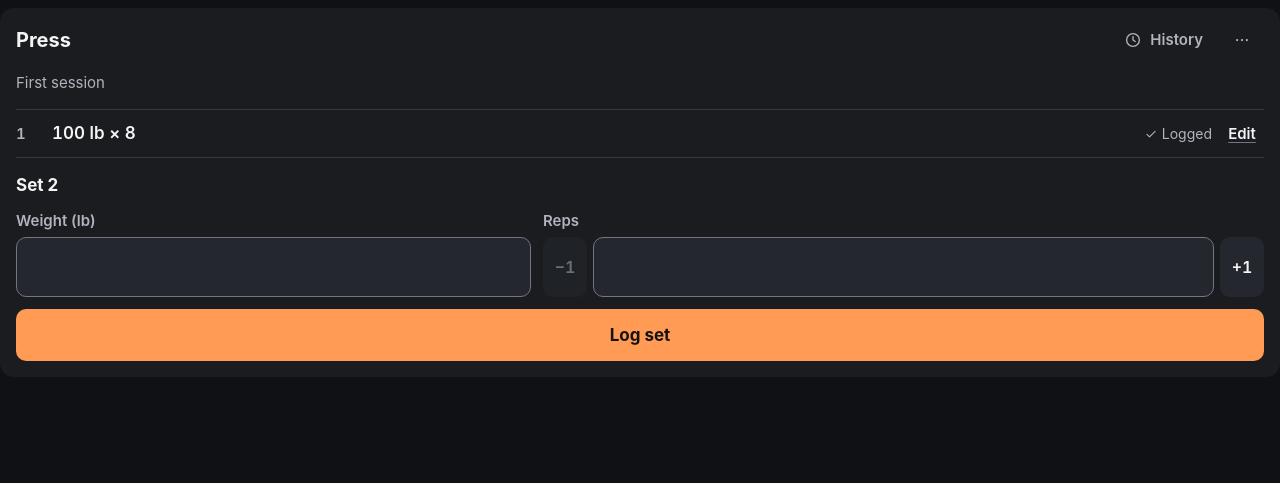
Test: WorkoutExercise saving › keeps invalid correction input blocked until the user cancels or supplies a valid value
Step 1. Click the button with aria-label "Edit set 1 for Press" → (1242, 134), box [1220,112,1264,156]
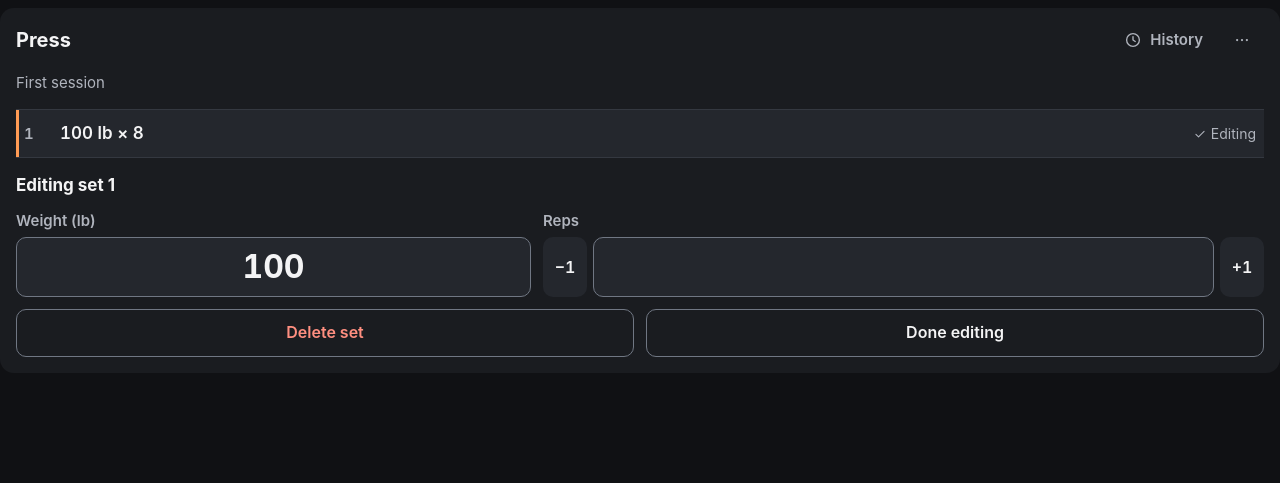
Step 2. Clear the field labelled "Reps" → (904, 267), box [593,237,1214,297]
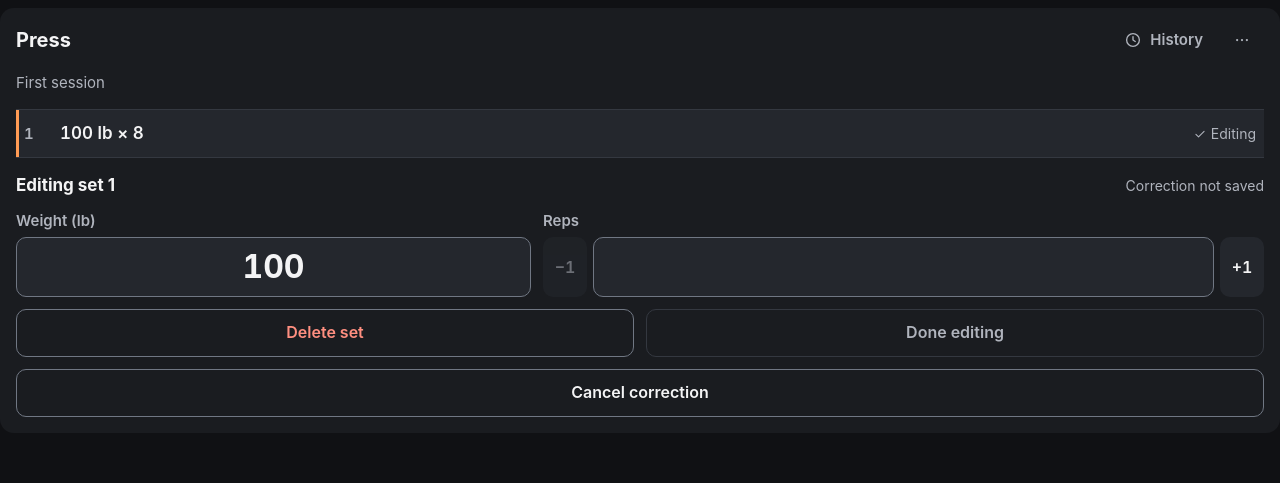
Step 3. Leave the field labelled "Reps", box [593,237,1214,297]
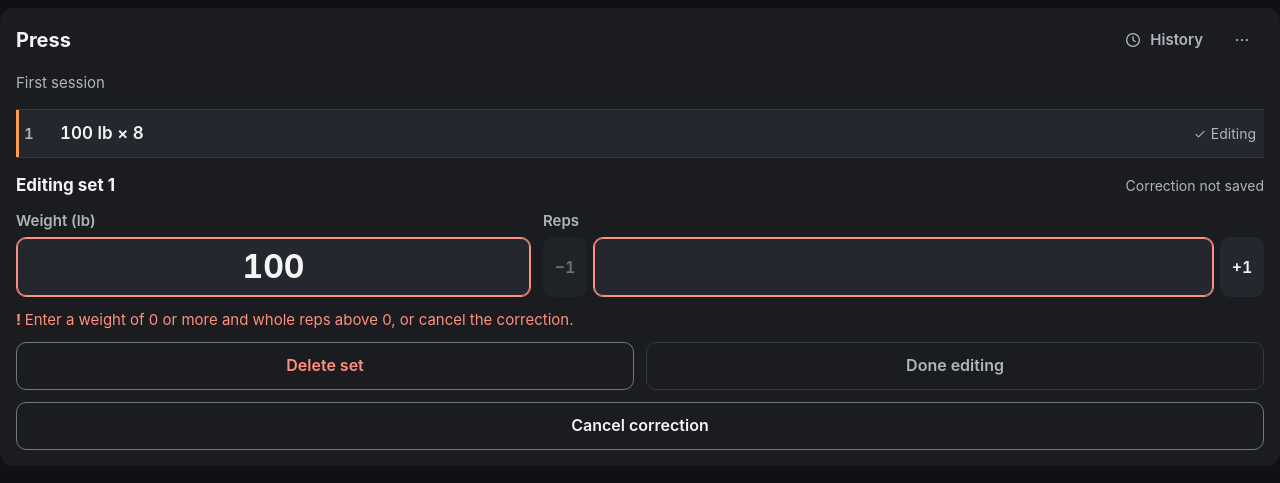
Expected: the message "Enter a weight of 0 or more and whole reps above 0, or cancel the correction." is shown, [25,310,573,329]
Step 4. Click the button "Cancel correction" → (640, 426), box [16,402,1264,450]
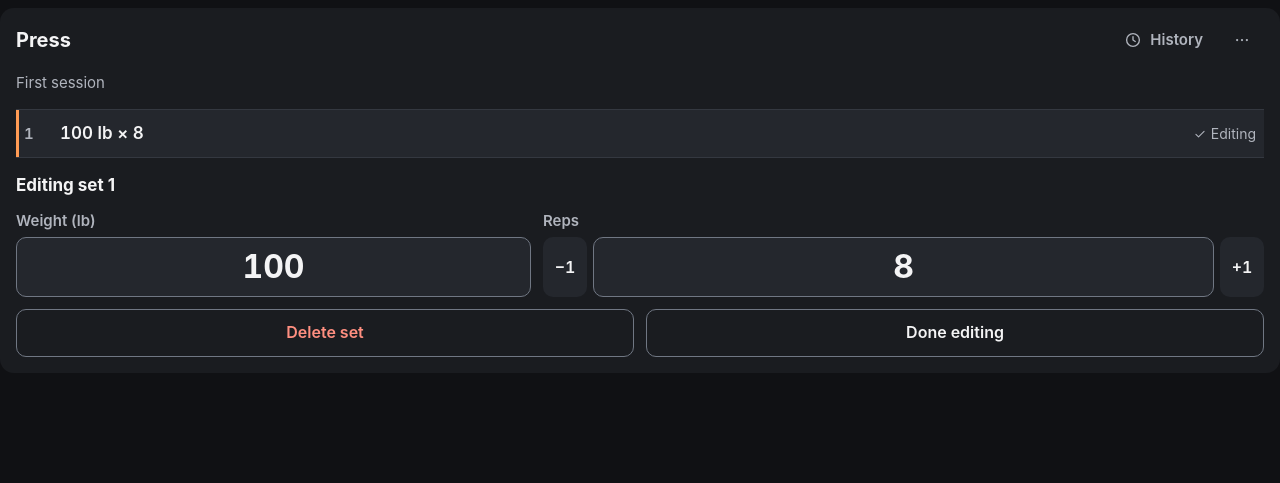
Expected: the field labelled "Reps" holds "8", [593,237,1214,297]
